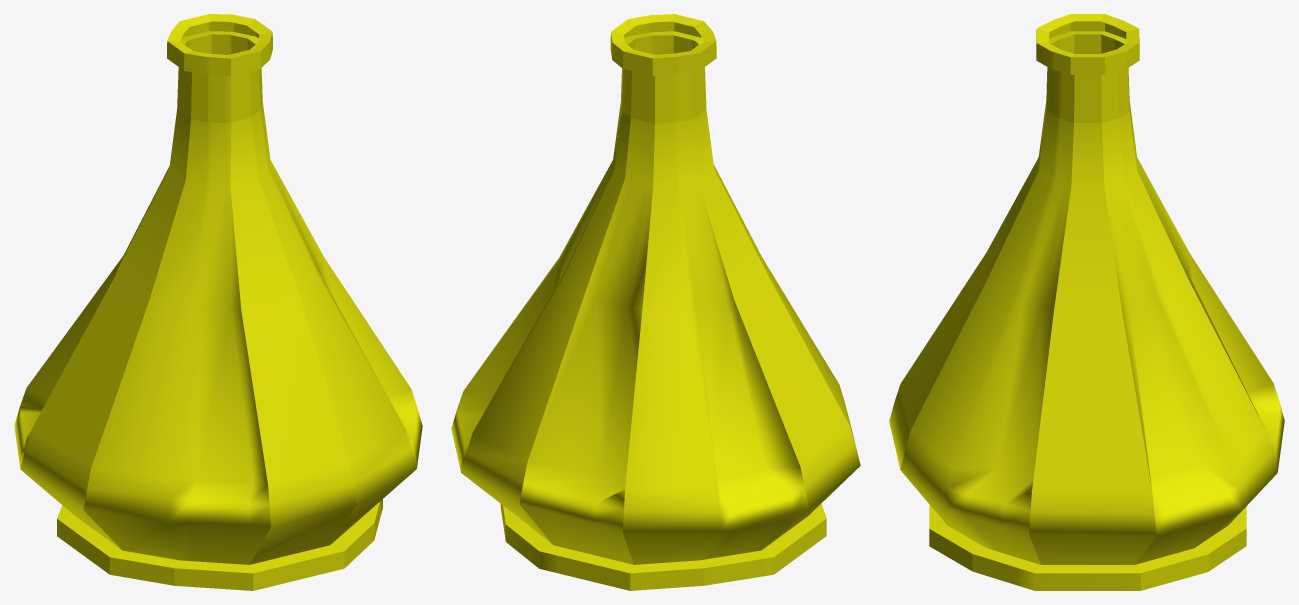
The model's file is potion3.fbx.
The picture shows the model from 3 angles, left to right: view 1: azimuth 30°, elevation 25°; view 2: azimuth 150°, elevation 25°; view 3: azimuth 270°, elevation 25°; orthographic projection.
Visible parts, largest first — view 1: pCube5; view 2: pCube5; view 3: pCube5.
Part boxes in pixels (x1,y1,x2,y2): pCube5: [14, 14, 422, 590]; pCube5: [451, 14, 860, 590]; pCube5: [889, 14, 1284, 590].
Bounding box in the file's own units: 4.45 × 5.89 × 4.32.
